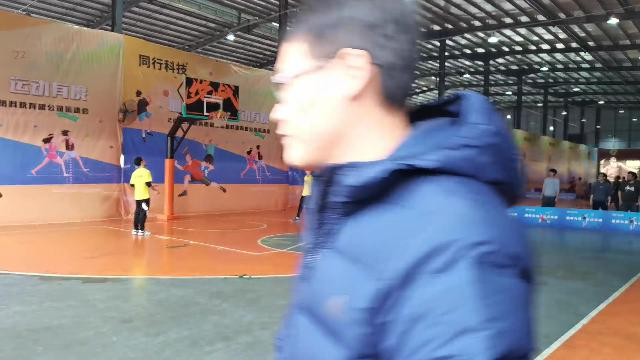goal: (215, 110, 225, 120)
